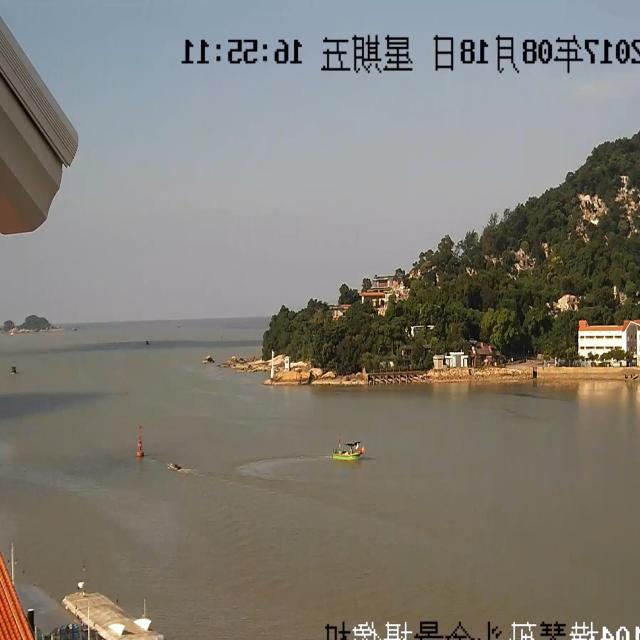buoy: (126, 425, 148, 471)
fishing boat: (326, 417, 365, 475)
